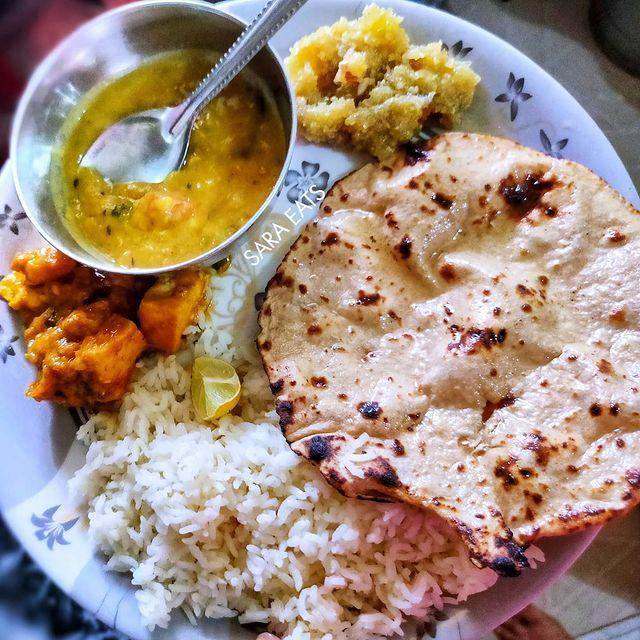Roti: (262, 113, 640, 547)
